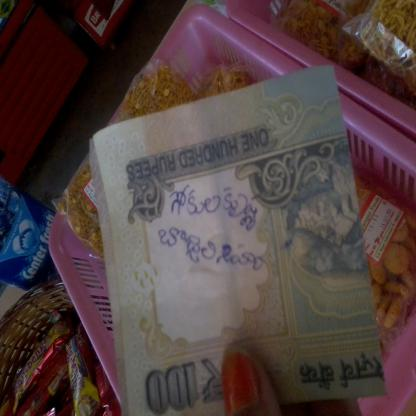Old100Back: (89, 63, 388, 416)
